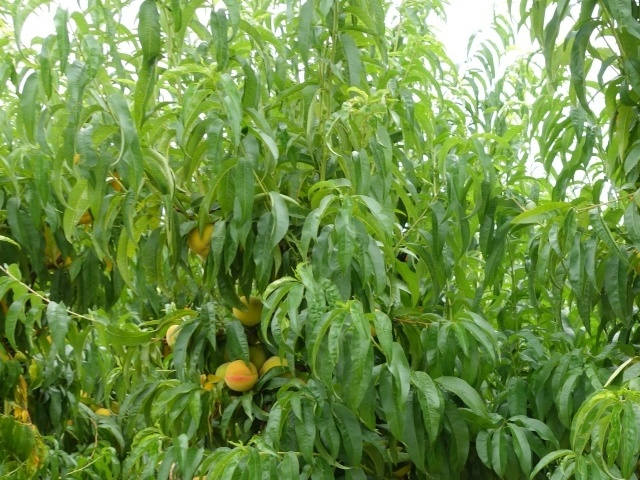peach: (226, 292, 265, 330), (222, 358, 261, 393), (184, 222, 219, 258), (234, 342, 268, 371), (256, 356, 294, 381), (162, 322, 185, 351)
